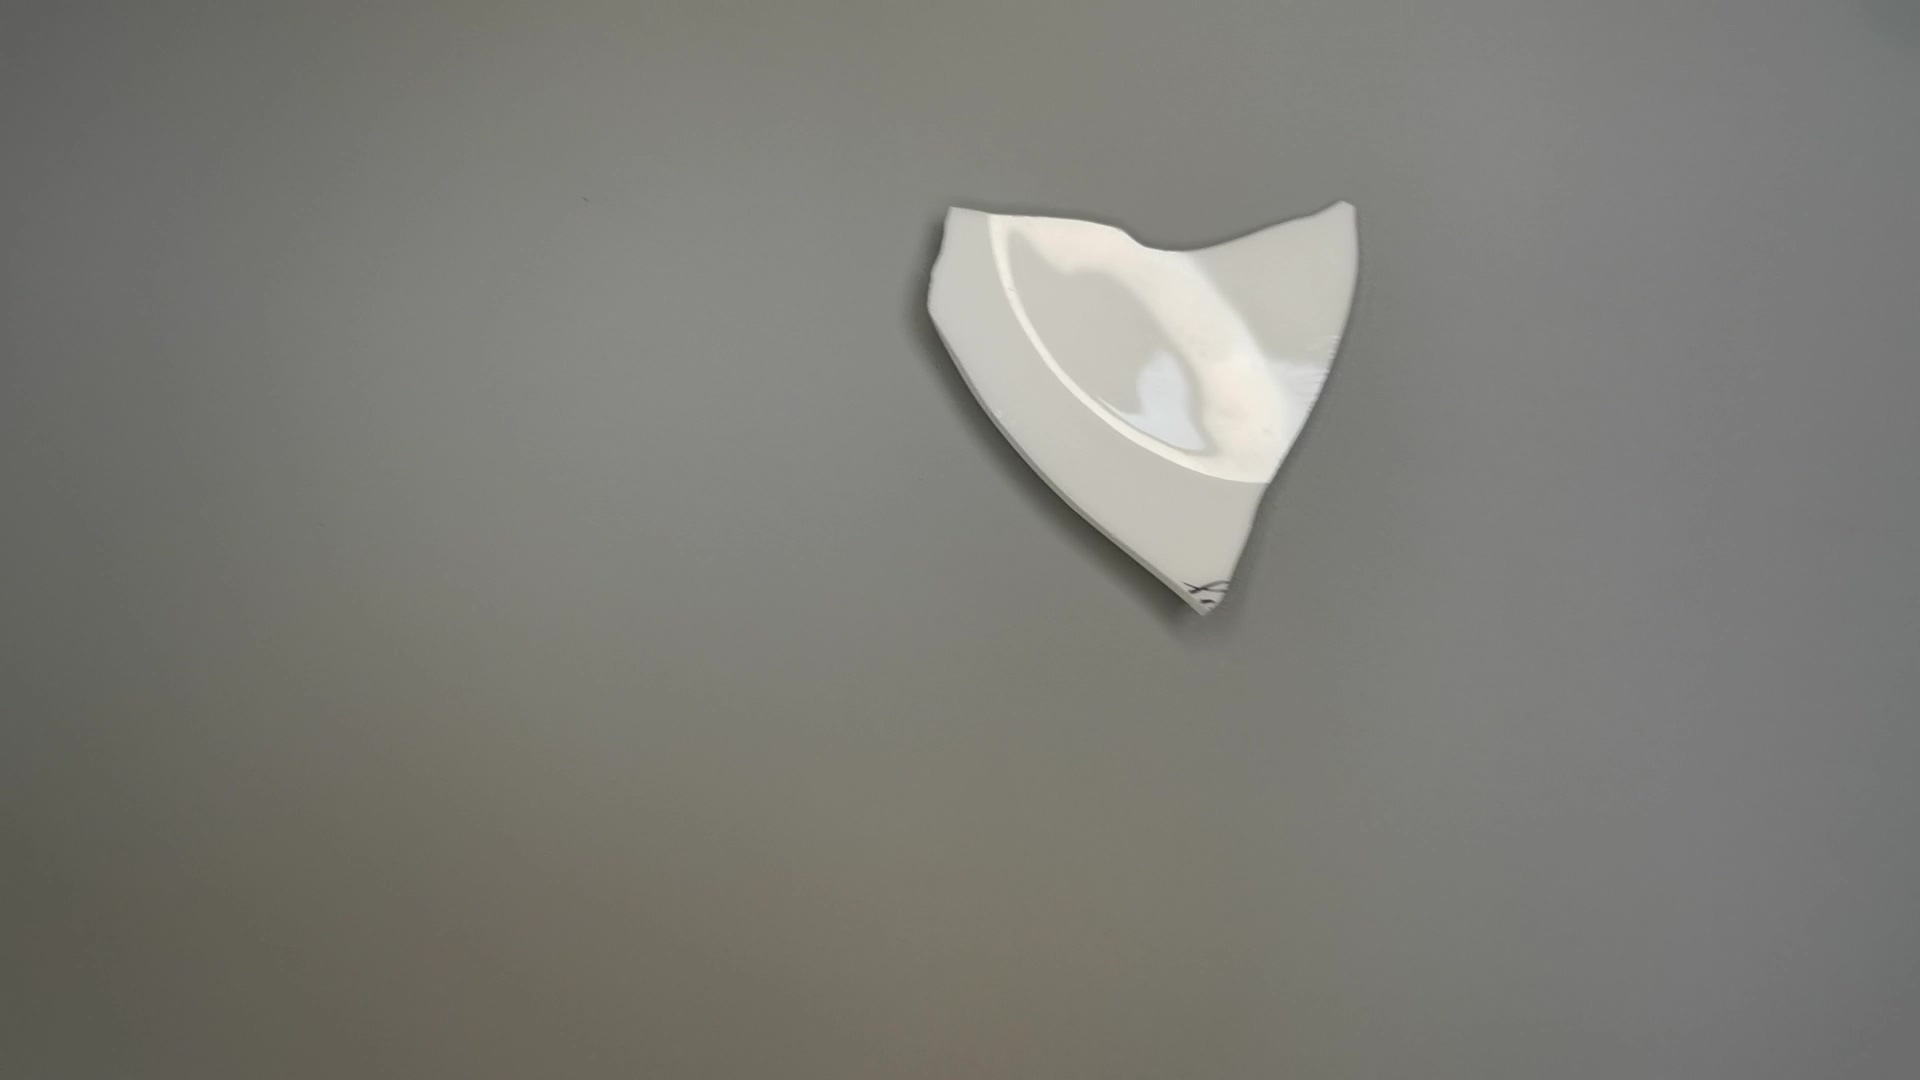ceramic: (923, 195, 1379, 622)
